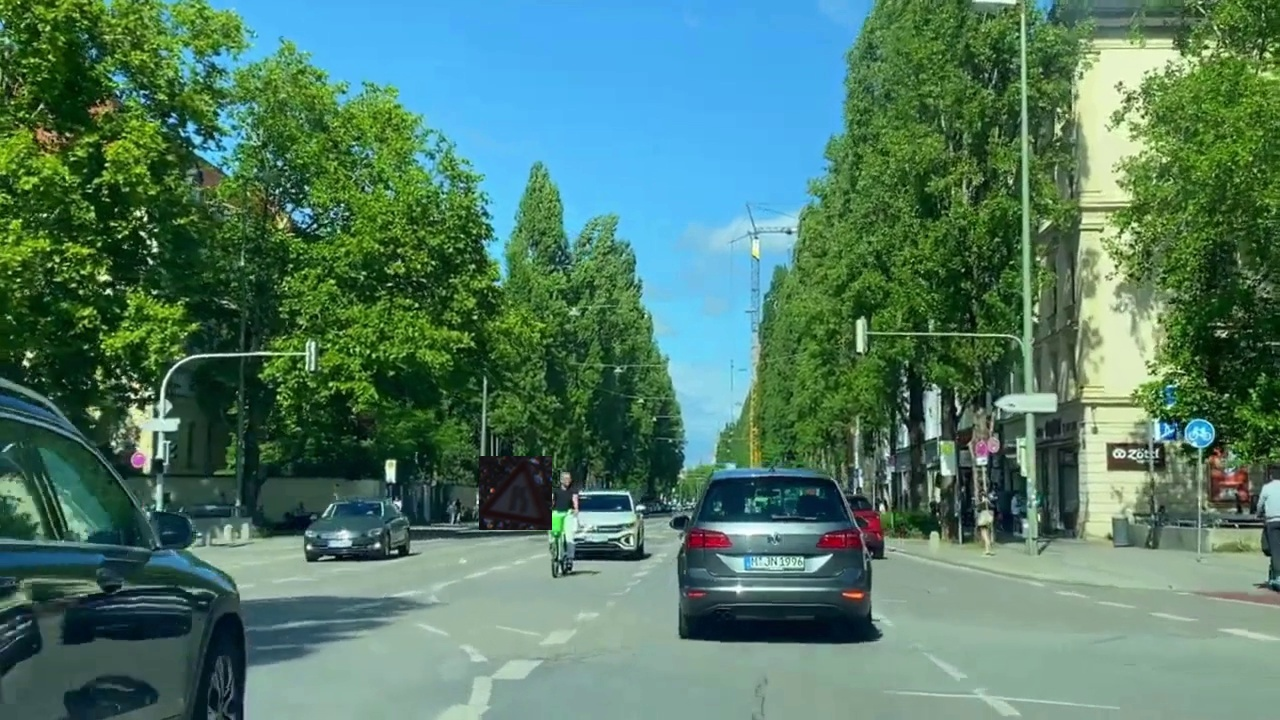Road narrows: (479, 456, 552, 530)
